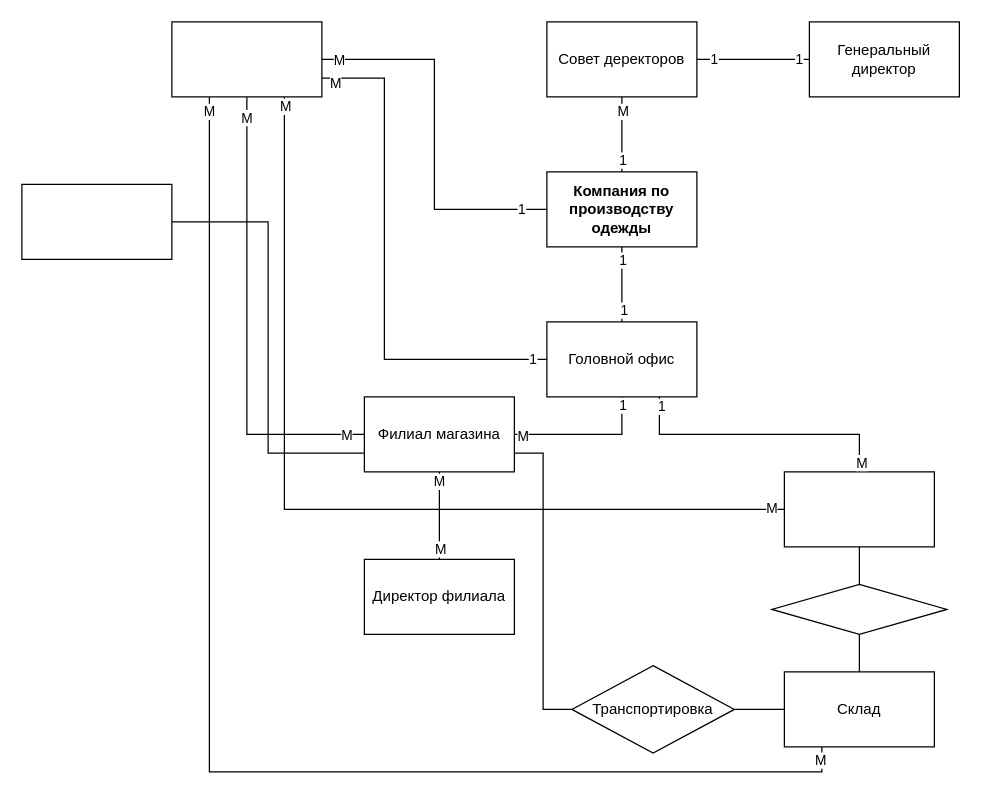
The diagram is 981 pixels wide and 795 high, and some of its shapes have lost their labels. The shapes that lost their labels are listed below. From the top down, each one's centre as x and y in pixels, then its label:
At (x=246, y=59): "Сотрудники".
At (x=96, y=221): "Клиент".
At (x=858, y=509): "Завод".
At (x=859, y=608): "Производство".
